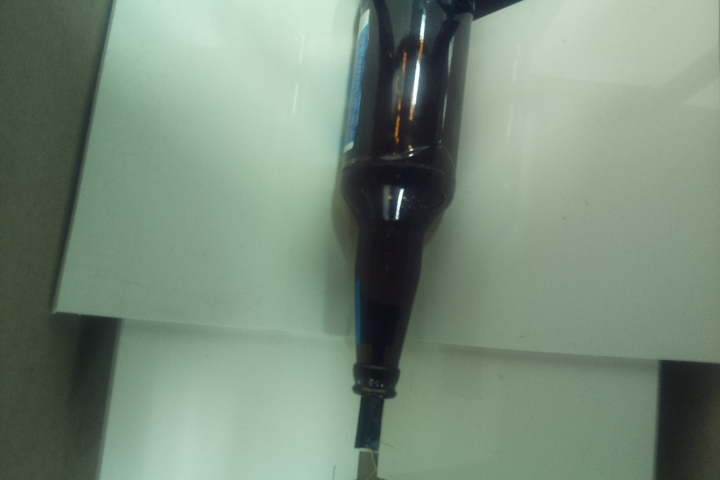makju: (330, 1, 473, 399)
